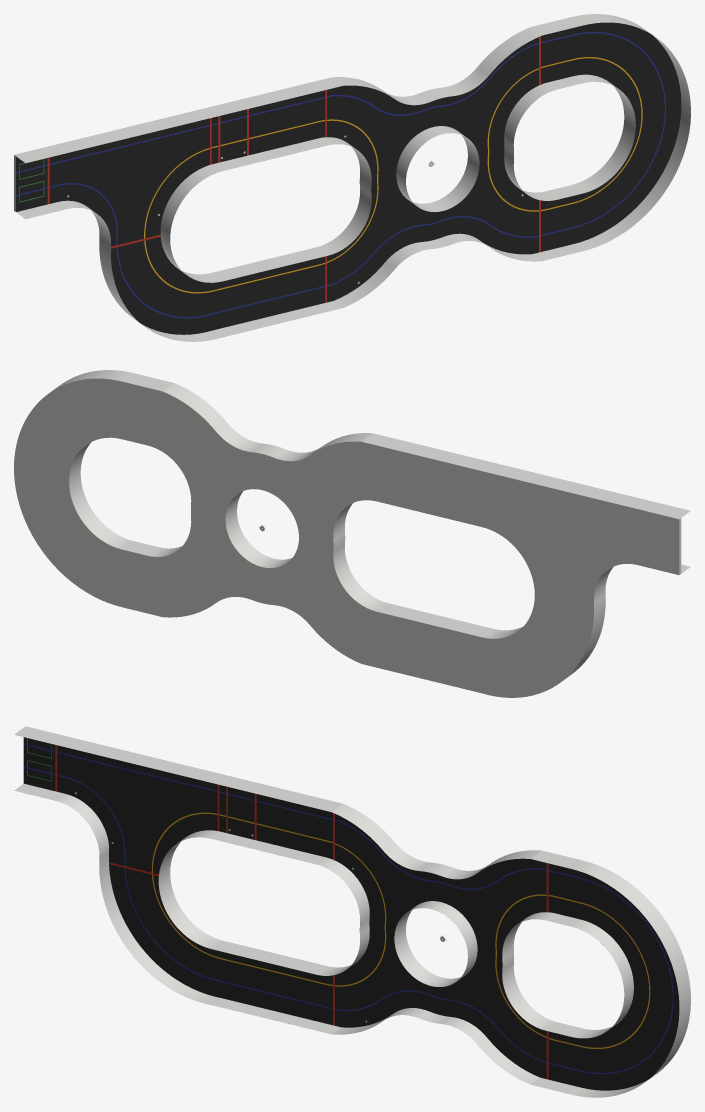
Rendered from Medium Roundabout Export.obj.
The picture shows the model from 3 angles, top to bottom: view 1: azimuth 30°, elevation 25°; view 2: azimuth 150°, elevation 25°; view 3: azimuth 330°, elevation 25°; orthographic projection.
Parts seen in each view (by area): view 1: Body6; view 2: Body6; view 3: Body6.
Part boxes in pixels (x1=…): Body6: x1=14, y1=14, x2=690, y2=341; Body6: x1=14, y1=370, x2=690, y2=697; Body6: x1=14, y1=726, x2=690, y2=1097.
Size of the model in its own units: 10.11 by 3.28 by 0.3048.
